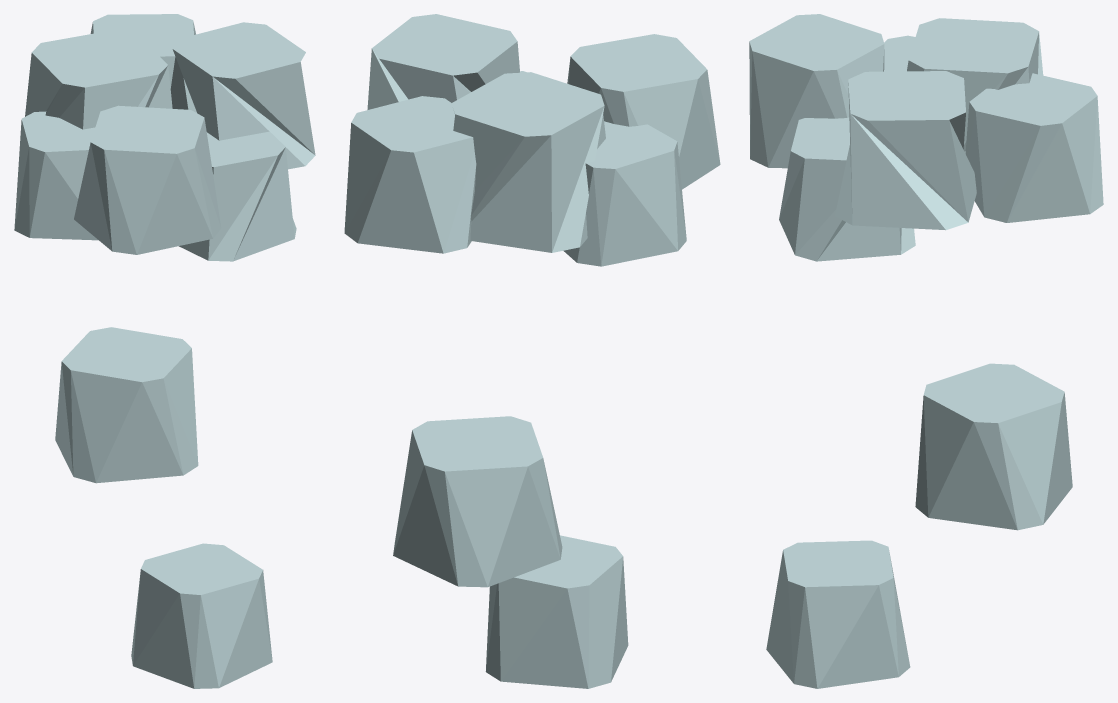
Rendered from SM_Cook_CupIce_01.fbx.
3 renders of one model, left to right at view 1: azimuth 30°, elevation 25°; view 2: azimuth 150°, elevation 25°; view 3: azimuth 270°, elevation 25°, orthographic. The views are drawn at different scales.
Visible parts, largest first — view 1: SM_Cook_CupIce_01; view 2: SM_Cook_CupIce_01; view 3: SM_Cook_CupIce_01.
Part boxes in pixels (x1,y1,x2,y2): SM_Cook_CupIce_01: [14, 14, 315, 688]; SM_Cook_CupIce_01: [344, 14, 720, 688]; SM_Cook_CupIce_01: [749, 14, 1103, 688].
Size of the model in its own units: 0.058 by 0.1129 by 0.0605.
1 material, 1 textured.
